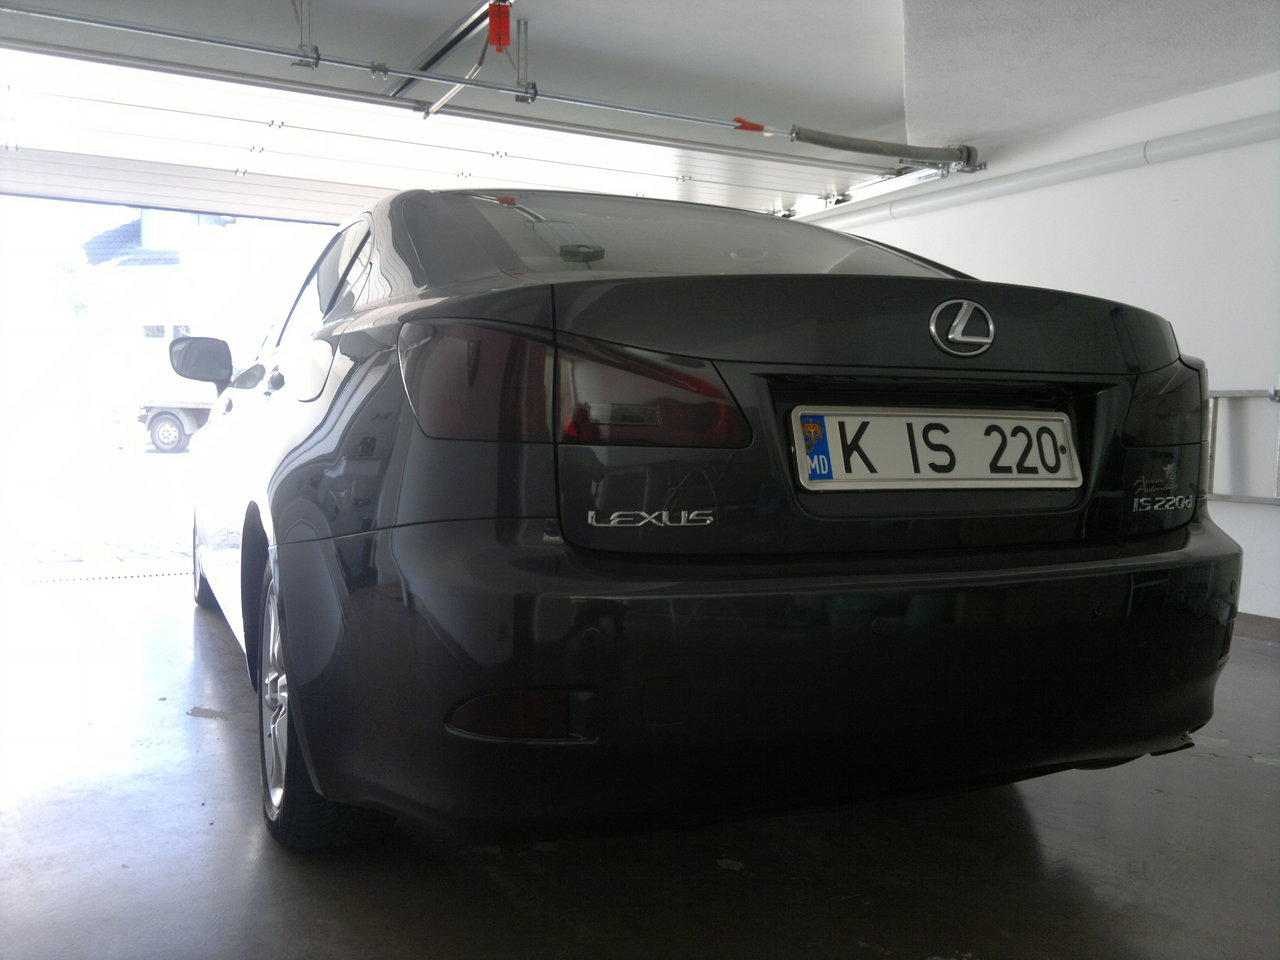car license plate: (787, 396, 1085, 496)
